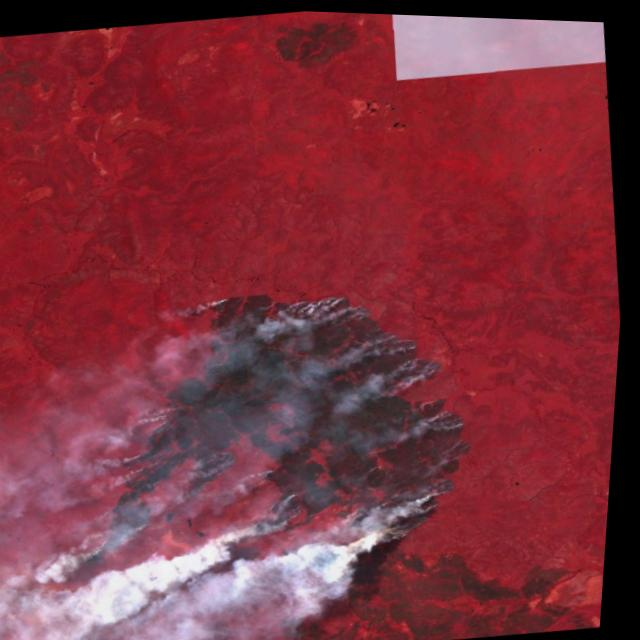fire: (27, 256, 502, 601)
